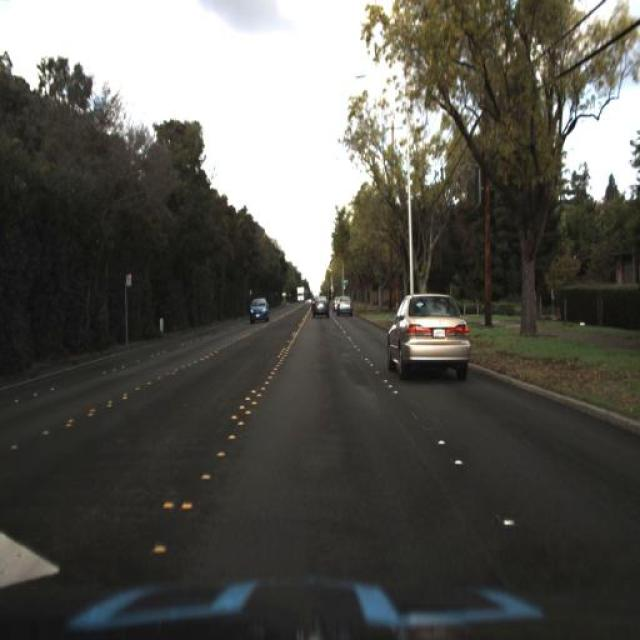car: (381, 292, 480, 386), (331, 292, 357, 322), (245, 292, 270, 323), (309, 295, 330, 326), (334, 297, 354, 318)
